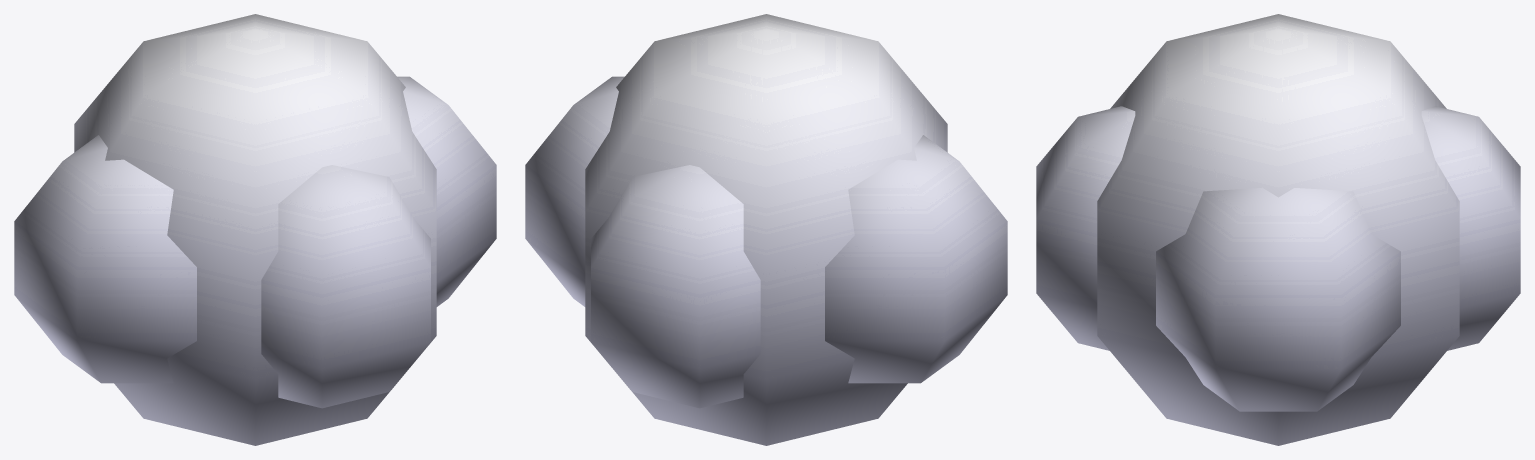
Rendered from smoke.glb.
3 renders of one model, left to right at view 1: azimuth 30°, elevation 25°; view 2: azimuth 150°, elevation 25°; view 3: azimuth 270°, elevation 25°, orthographic.
Visible parts, largest first — view 1: smoke; view 2: smoke; view 3: smoke.
Part boxes in pixels (left/top/right/bottom): smoke: left=14, top=14, right=496, bottom=445; smoke: left=525, top=14, right=1007, bottom=445; smoke: left=1036, top=14, right=1520, bottom=445.
Size of the model in its own units: 1.09 by 0.99 by 1.09.
1 material, 1 textured.
